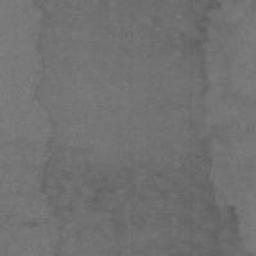Water spot: (32, 0, 255, 256)
